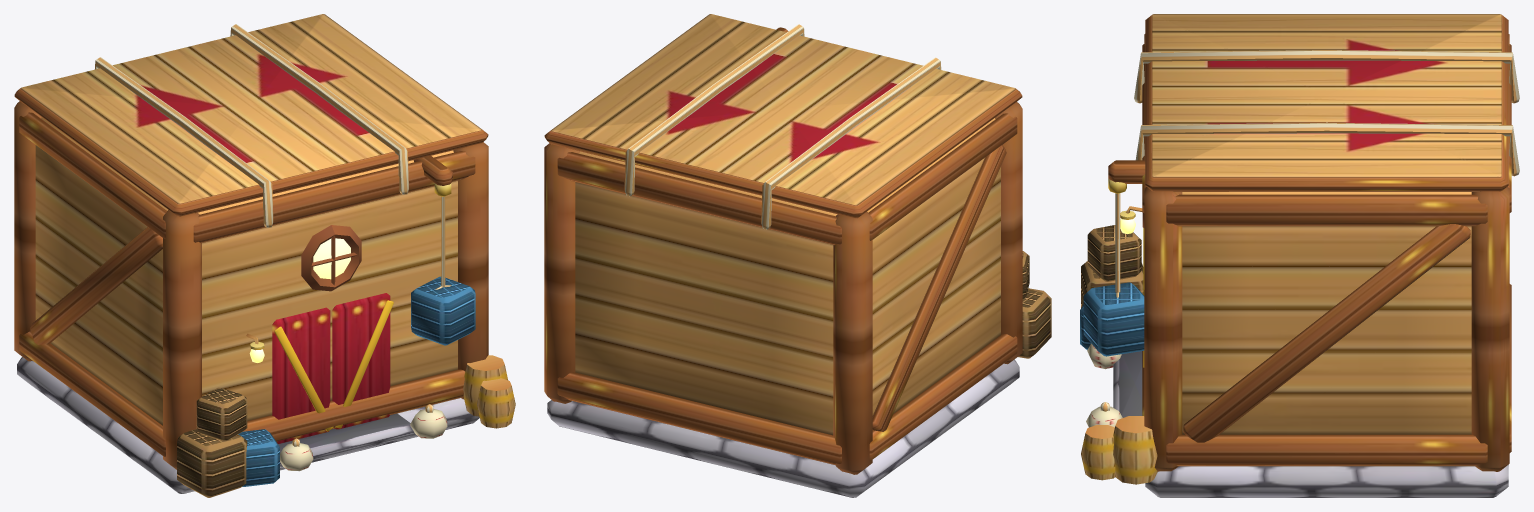
Rendered from warehouse.glb.
The picture shows the model from 3 angles, left to right: view 1: azimuth 30°, elevation 25°; view 2: azimuth 150°, elevation 25°; view 3: azimuth 270°, elevation 25°; orthographic projection. The views are drawn at different scales.
Parts seen in each view (by area): view 1: warehouse; view 2: warehouse; view 3: warehouse.
Boxes of the visible parts, x1=… form: warehouse: x1=14, y1=14, x2=515, y2=497; warehouse: x1=544, y1=14, x2=1051, y2=497; warehouse: x1=1080, y1=14, x2=1519, y2=497.
Bounding box in the file's own units: 6.84 × 5.95 × 7.15.
4 materials, 4 textured.
